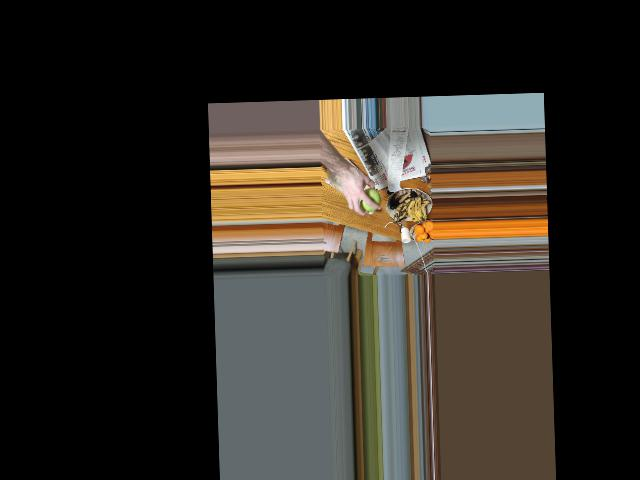apple: (357, 186, 380, 213)
